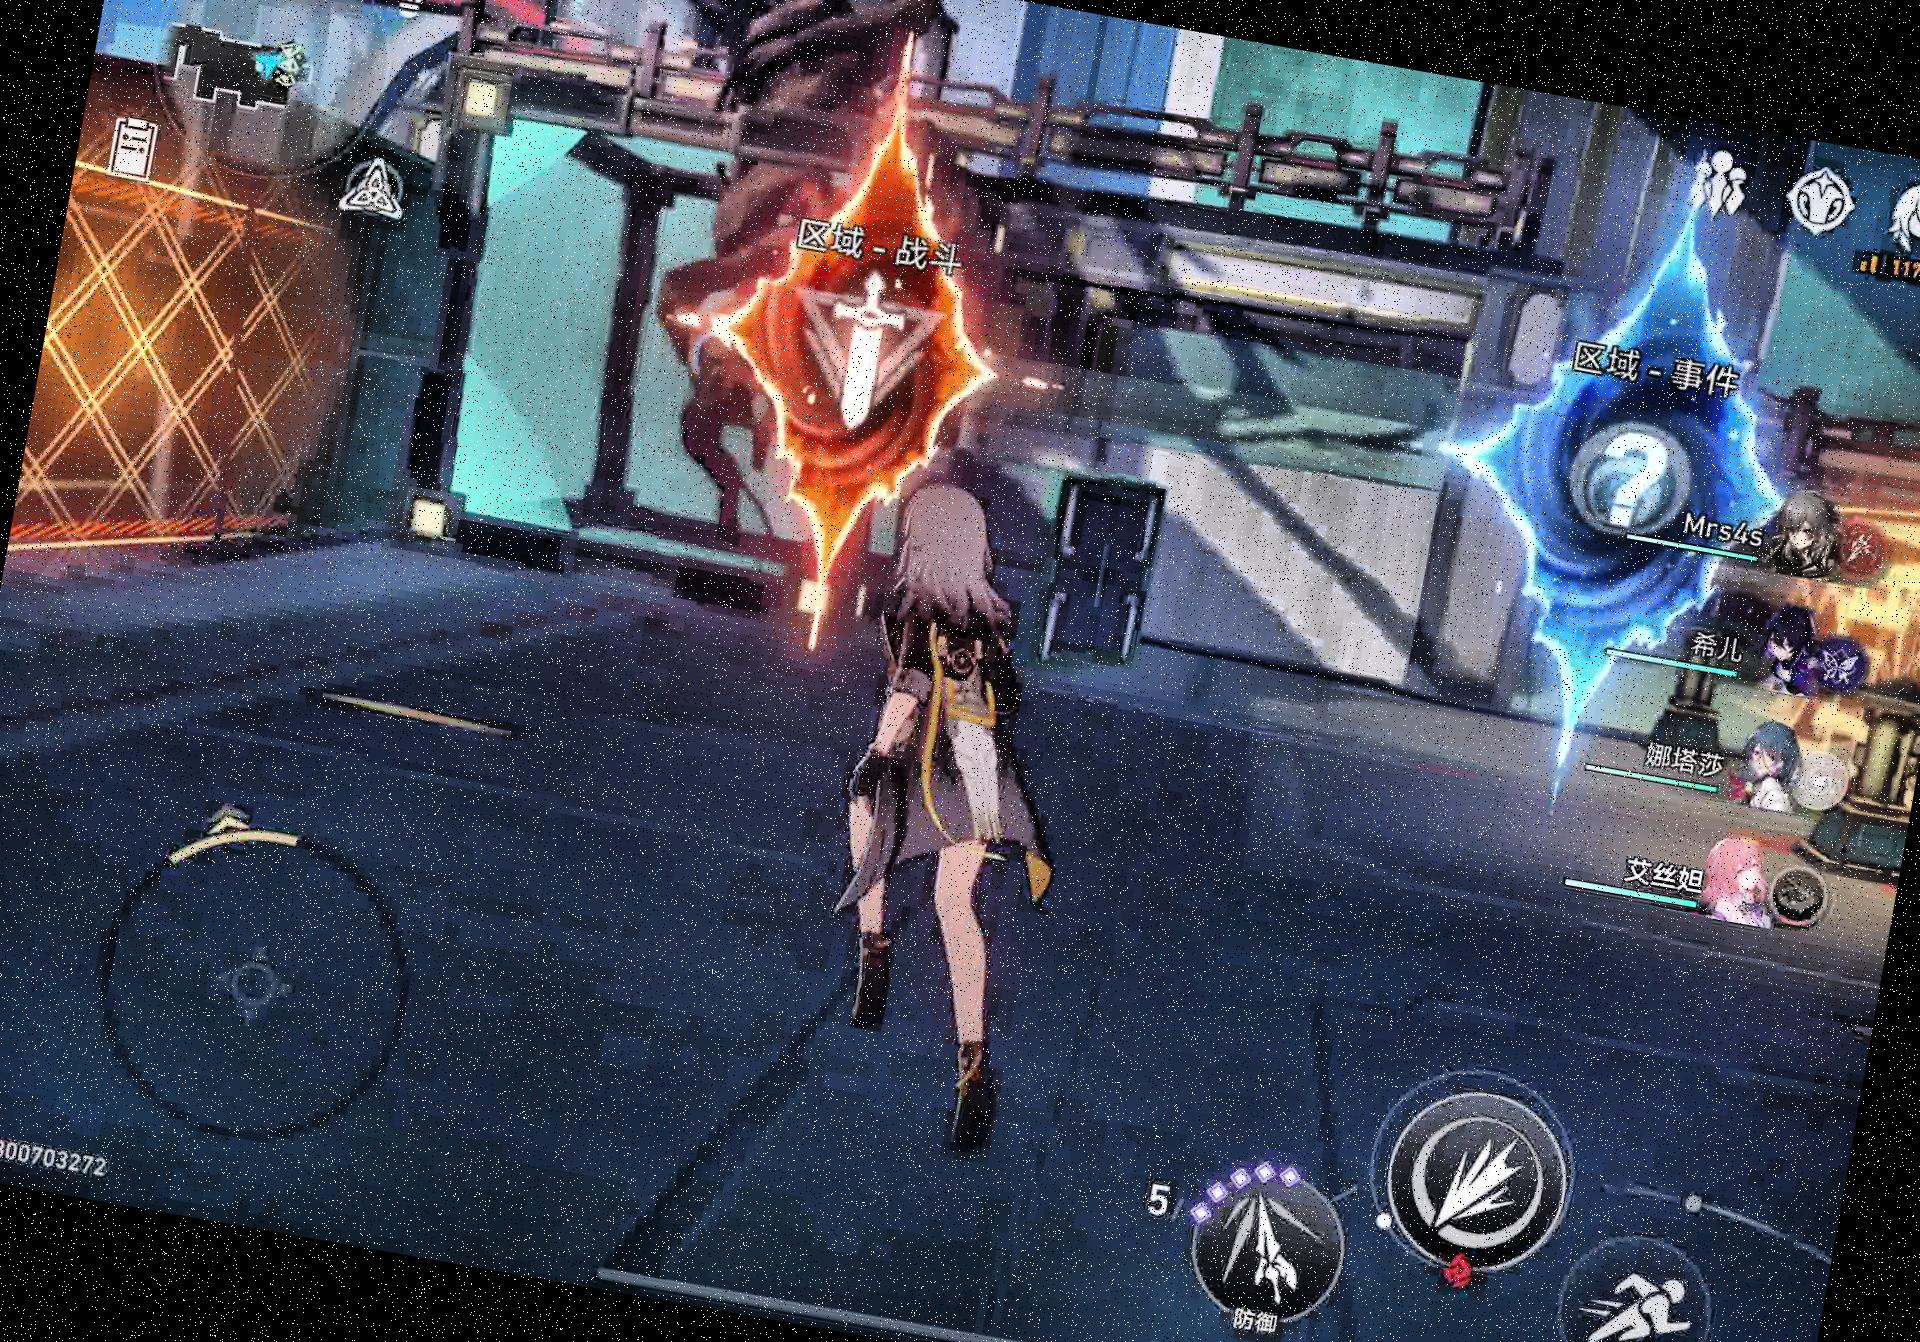BattleDoor: (627, 74, 1075, 664)
EventDoor: (1355, 191, 1850, 845)
Self: (763, 470, 1119, 1155)
